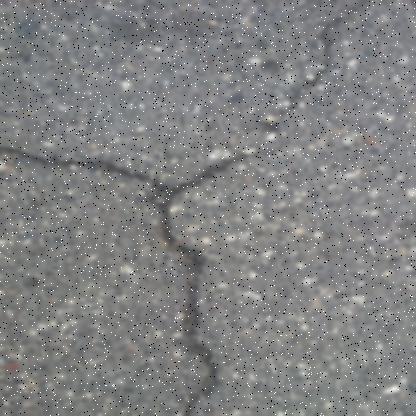Cracks: (151, 9, 379, 416), (0, 138, 177, 211)
